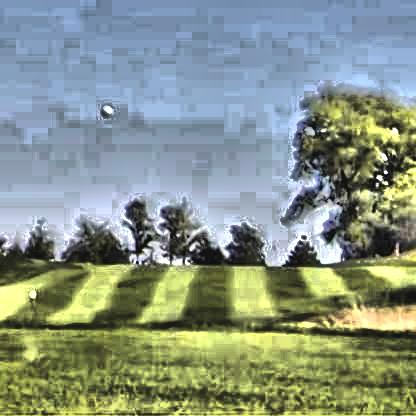golfball: (99, 102, 110, 115)
